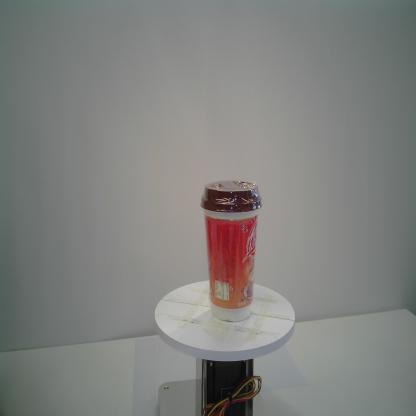Instant Drink: (196, 175, 264, 322)
